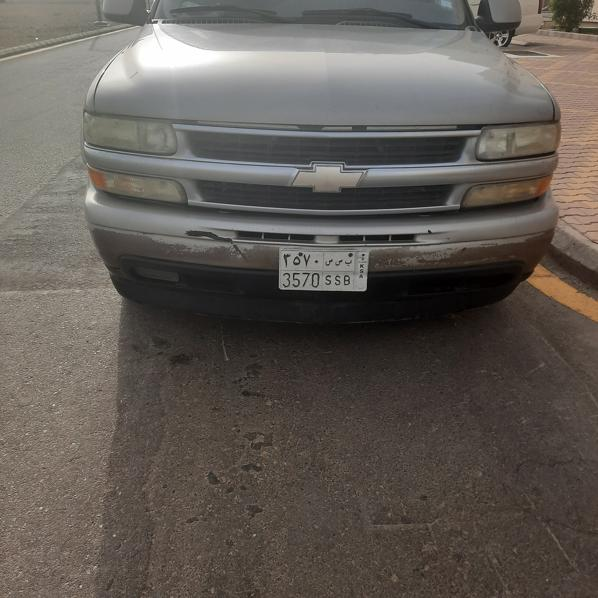numberplate: (280, 249, 367, 291)
